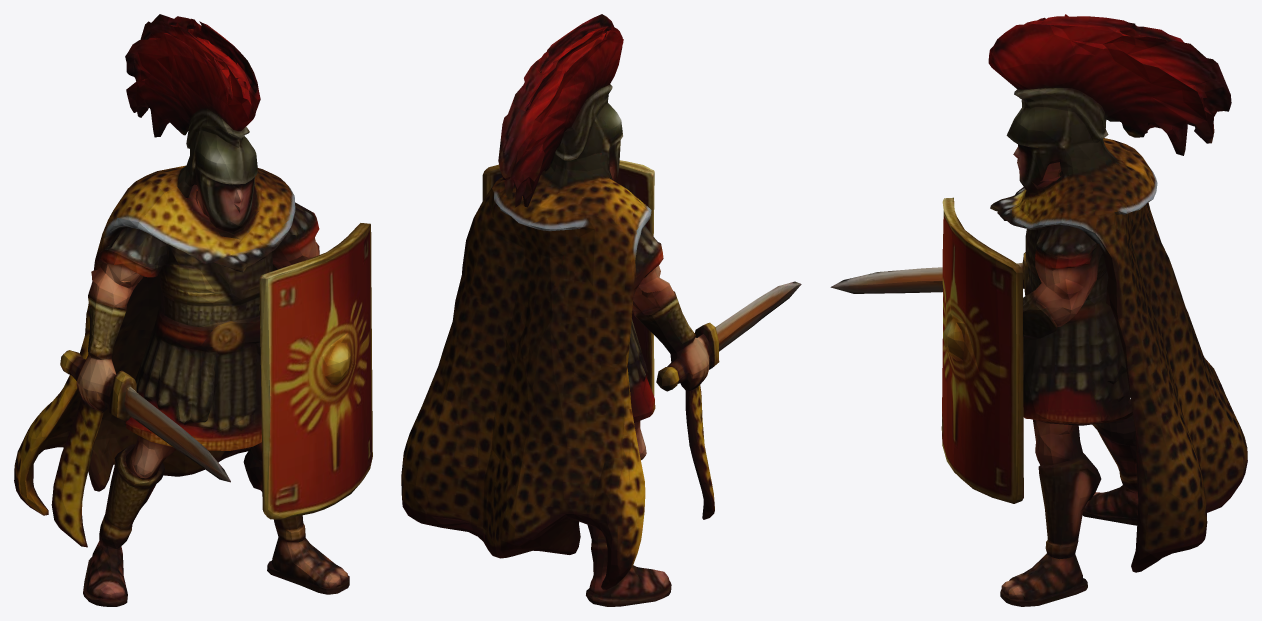
The model's file is legion.glb.
3 views of the same model, side by side, from view 1: azimuth 30°, elevation 25°; view 2: azimuth 150°, elevation 25°; view 3: azimuth 270°, elevation 25° (orthographic). The views are drawn at different scales.
Parts seen in each view (by area): view 1: world; view 2: world; view 3: world.
Part boxes in pixels (bbox=[...]): world: bbox=[14, 14, 372, 606]; world: bbox=[401, 14, 801, 606]; world: bbox=[830, 14, 1247, 606].
Size of the model in its own units: 0.5447 by 1 by 0.7088.
1 material, 1 textured.
